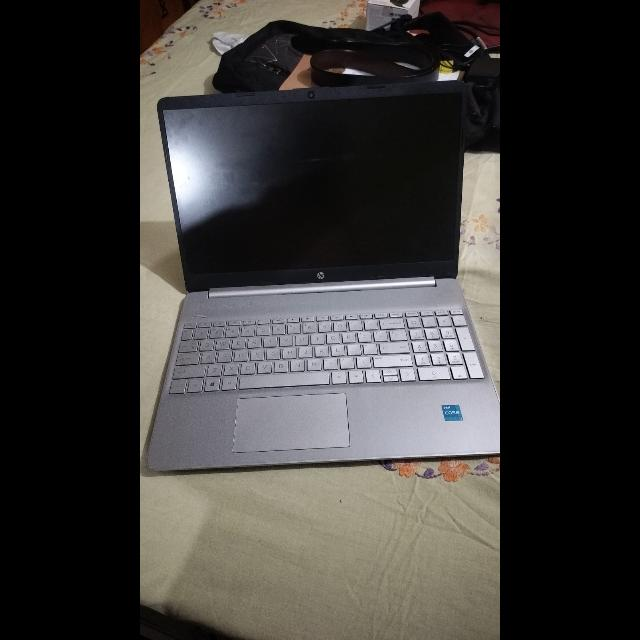laptop: (145, 85, 500, 488)
